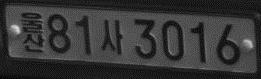0: (161, 19, 184, 60)
1: (188, 19, 207, 64), (74, 13, 93, 56)
3: (132, 17, 157, 60)
6: (214, 22, 241, 65)
8: (47, 12, 72, 55)
사: (99, 17, 124, 56)
울산_V: (19, 10, 46, 55)
